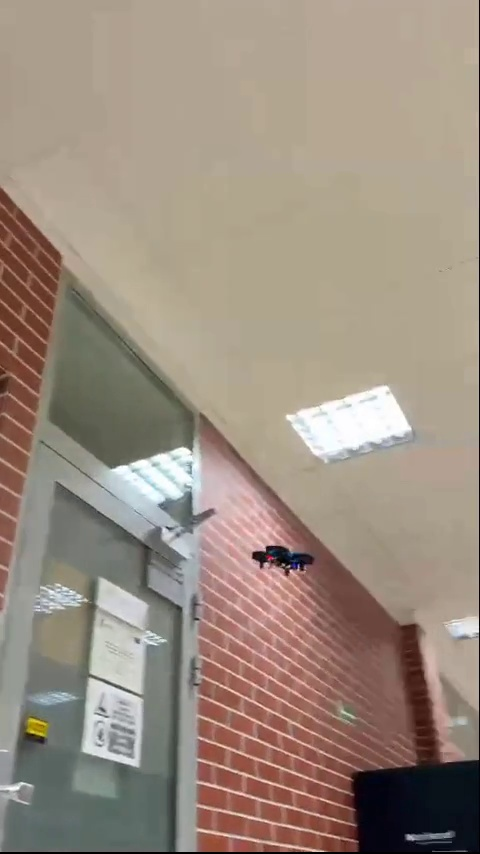drone: (253, 542, 313, 574)
